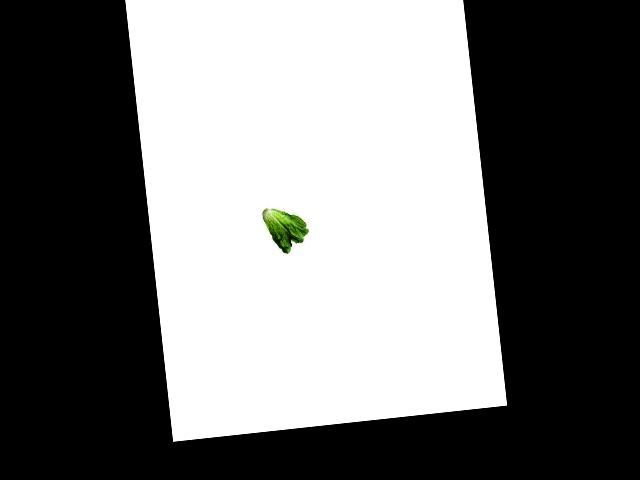lettuce: (260, 202, 316, 255)
